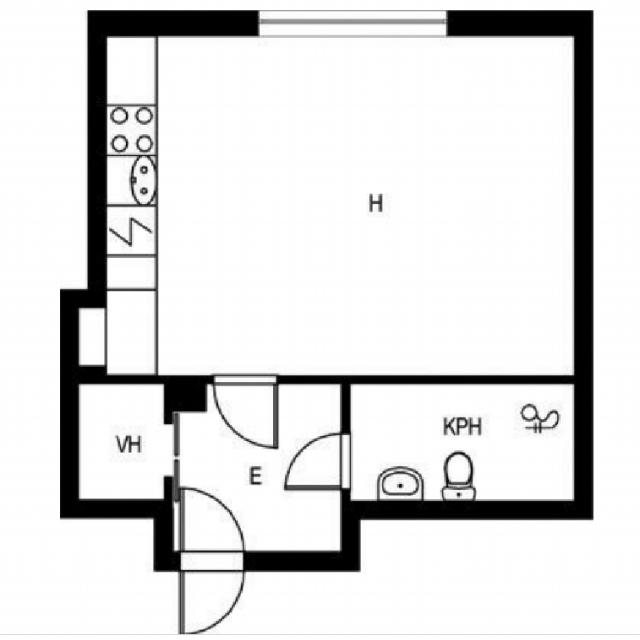door: (181, 489, 243, 571), (181, 552, 243, 632), (214, 374, 277, 446), (287, 434, 350, 488)
